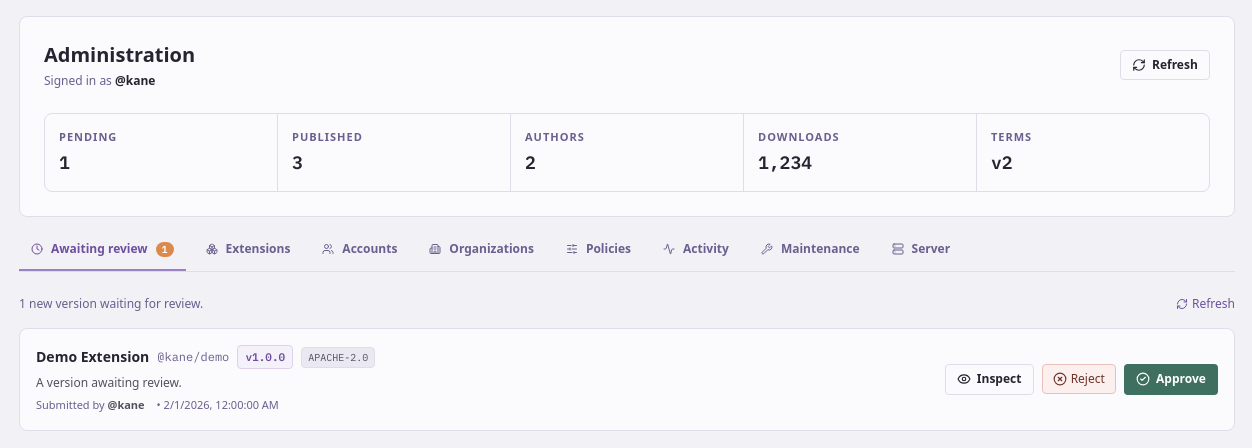
Test case: AdminPage › says so when a search on the accounts tab matches nobody
Click the button "Accounts": point(360, 256) [310,241,409,271]
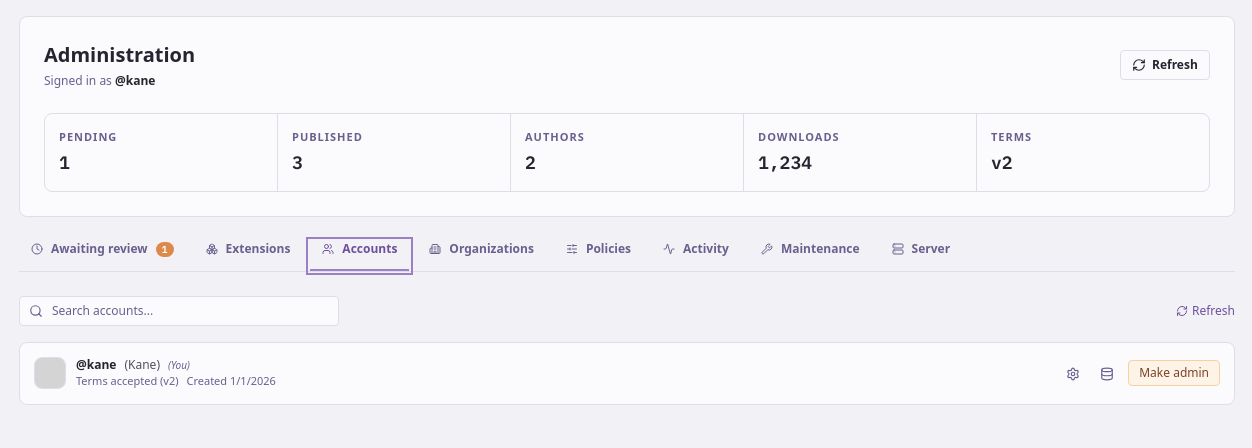
Expected: the field with placeholder "Search accounts..." is shown
In the field with placeholder "Search accounts...": point(179, 311) [19,296,339,326], type "zzz"
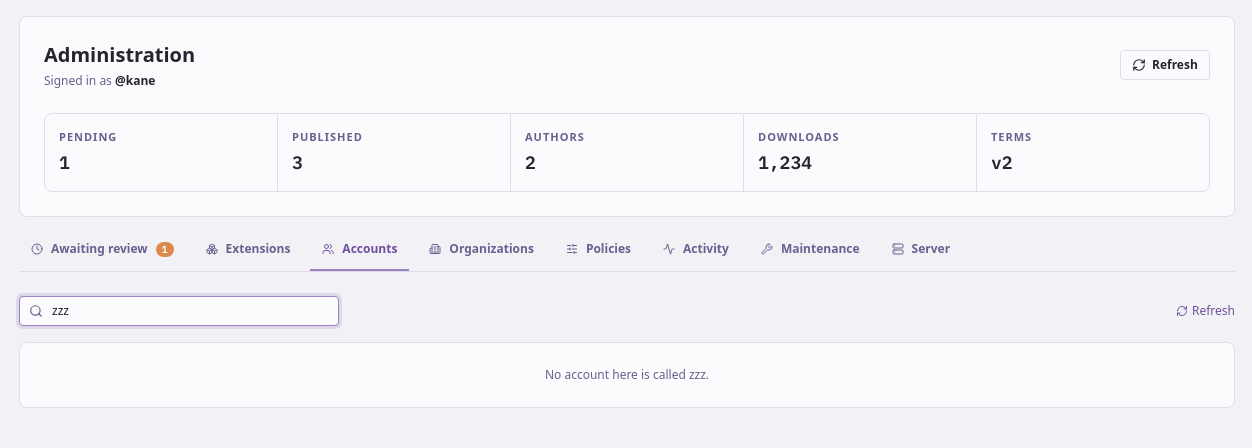
Expected: the text "No account here is called zzz." is shown, [19,342,1235,408]
